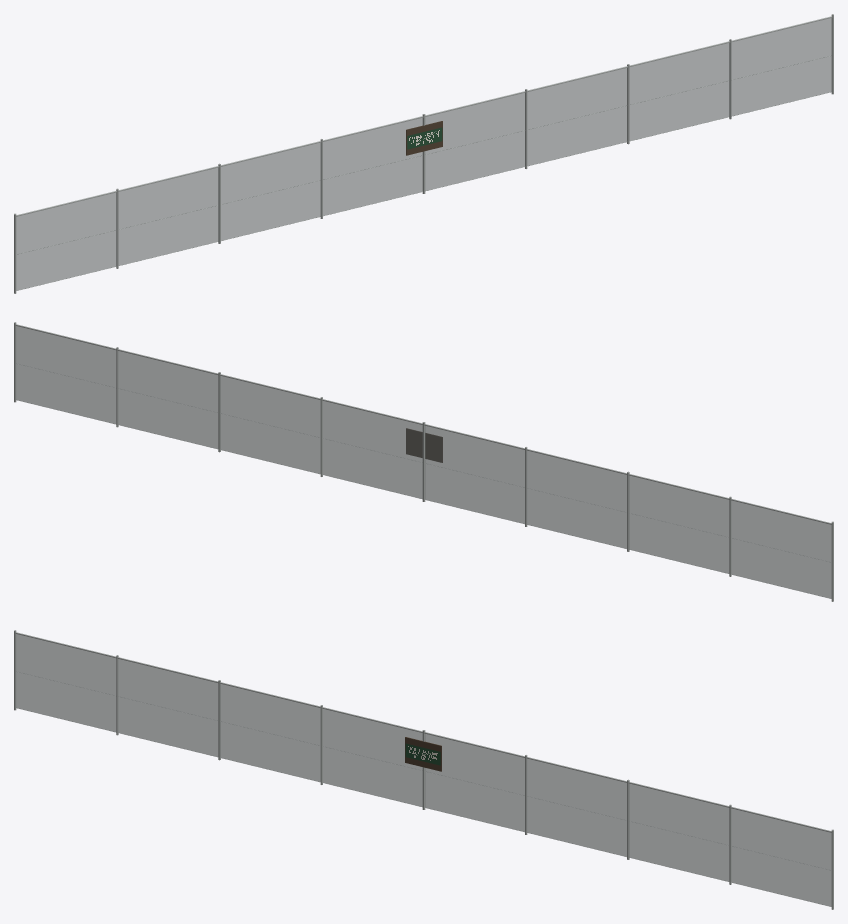
Rendered from pelican_fence.glb.
3 renders of one model, top to bottom at view 1: azimuth 30°, elevation 25°; view 2: azimuth 150°, elevation 25°; view 3: azimuth 330°, elevation 25°, orthographic.
Parts seen in each view (by area): view 1: PelicanFence; view 2: PelicanFence; view 3: PelicanFence.
Part boxes in pixels (x1,y1,x2,y2): PelicanFence: [14, 14, 833, 293]; PelicanFence: [14, 322, 833, 601]; PelicanFence: [14, 630, 833, 909].
Size of what is drawn, in the model's own units: 20.06 by 1.85 by 0.061.
4 materials, 1 textured.
